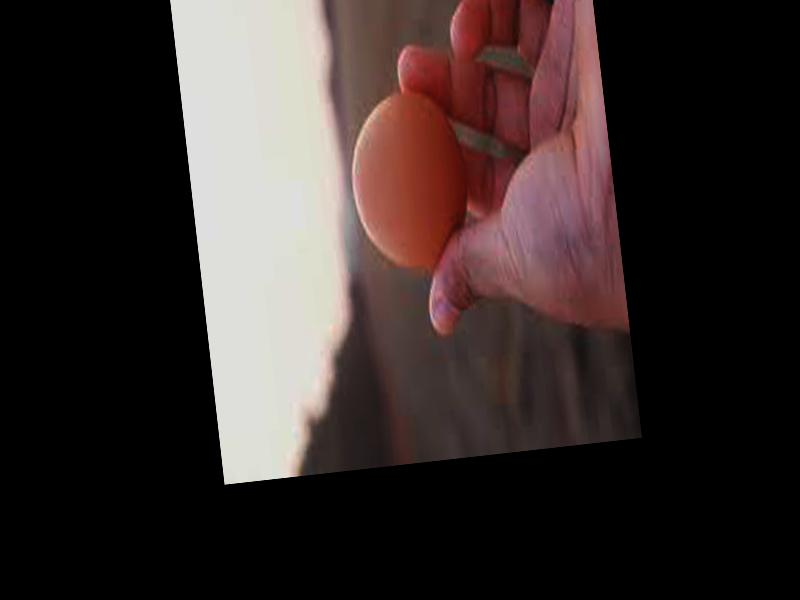Eggs: (342, 85, 473, 274)
